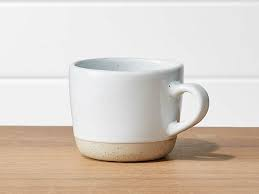cup: (65, 54, 217, 164)
